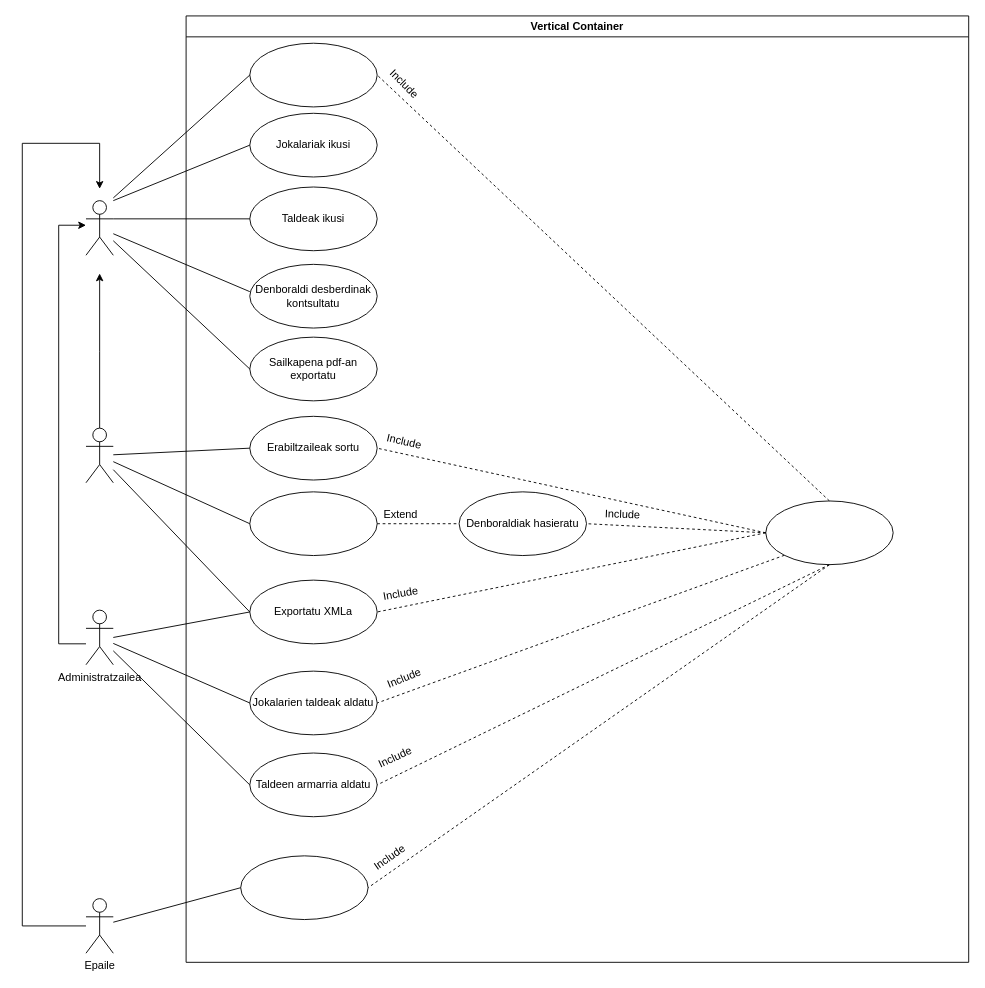
Some shapes in this 985 by 988 pixel diagram are drawn without their labels. The shapes that lost their labels are listed below. From the top down, each one's box as (x1, y1, x2, y2) in pixels, then its label:
(249, 42, 377, 107): Hasi saioa
(85, 200, 113, 255): Erabiltzailea
(85, 427, 113, 483): Presi
(249, 491, 377, 556): Denboraldi baten informazio extra ikusi
(765, 500, 893, 565): Log fitxategian idatzi
(240, 855, 368, 920): Emaitzak sartu
